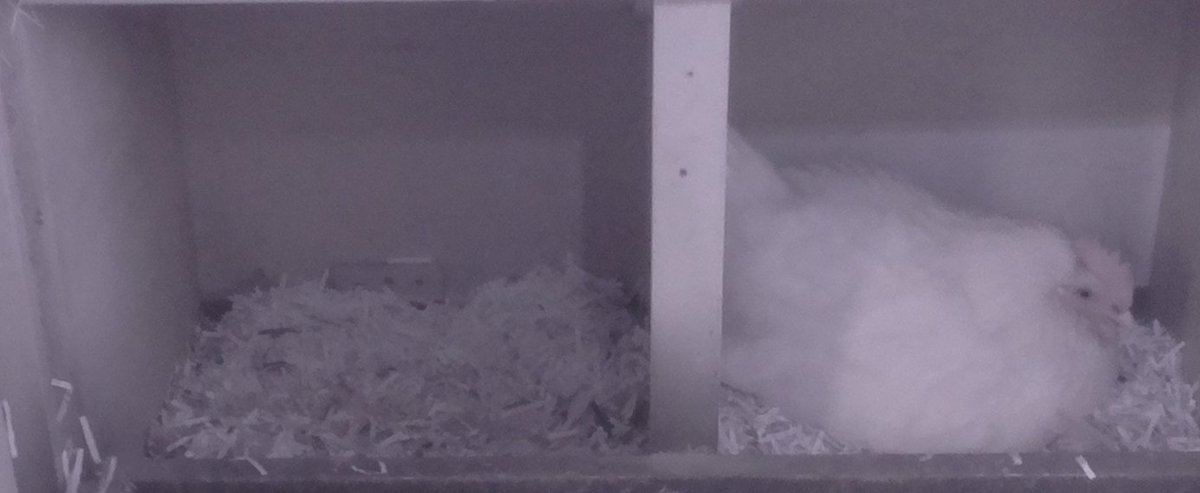hen: (728, 137, 1144, 451)
